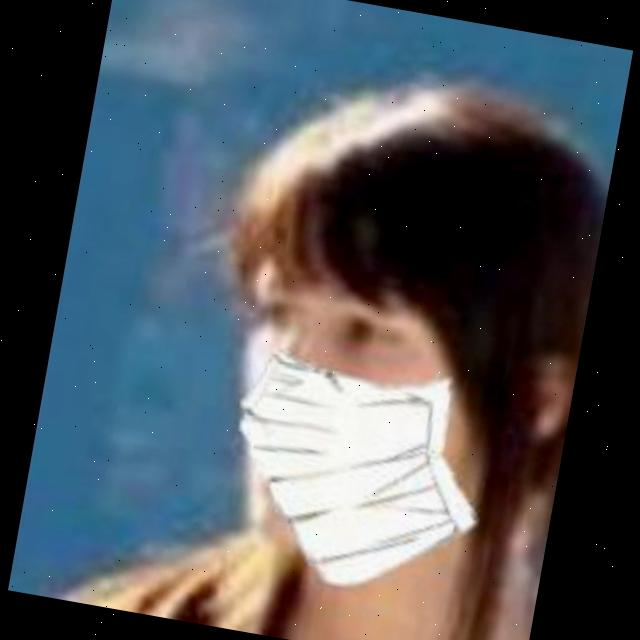suspicion: (169, 190, 517, 580)
